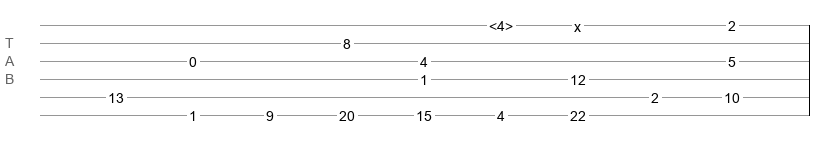0: (189, 54, 197, 64)
1: (189, 108, 197, 118), (420, 72, 428, 82)
10: (724, 90, 740, 100)
12: (570, 72, 586, 82)
13: (108, 90, 124, 100)
15: (416, 108, 432, 118)
2: (651, 90, 659, 100), (728, 18, 736, 28)
20: (339, 108, 355, 118)
22: (570, 108, 586, 118)
4: (420, 54, 428, 64), (497, 108, 505, 118)
5: (728, 54, 736, 64)
8: (343, 36, 351, 46)
9: (266, 108, 274, 118)
harmonic: (489, 18, 513, 28)
x: (574, 19, 581, 27)
